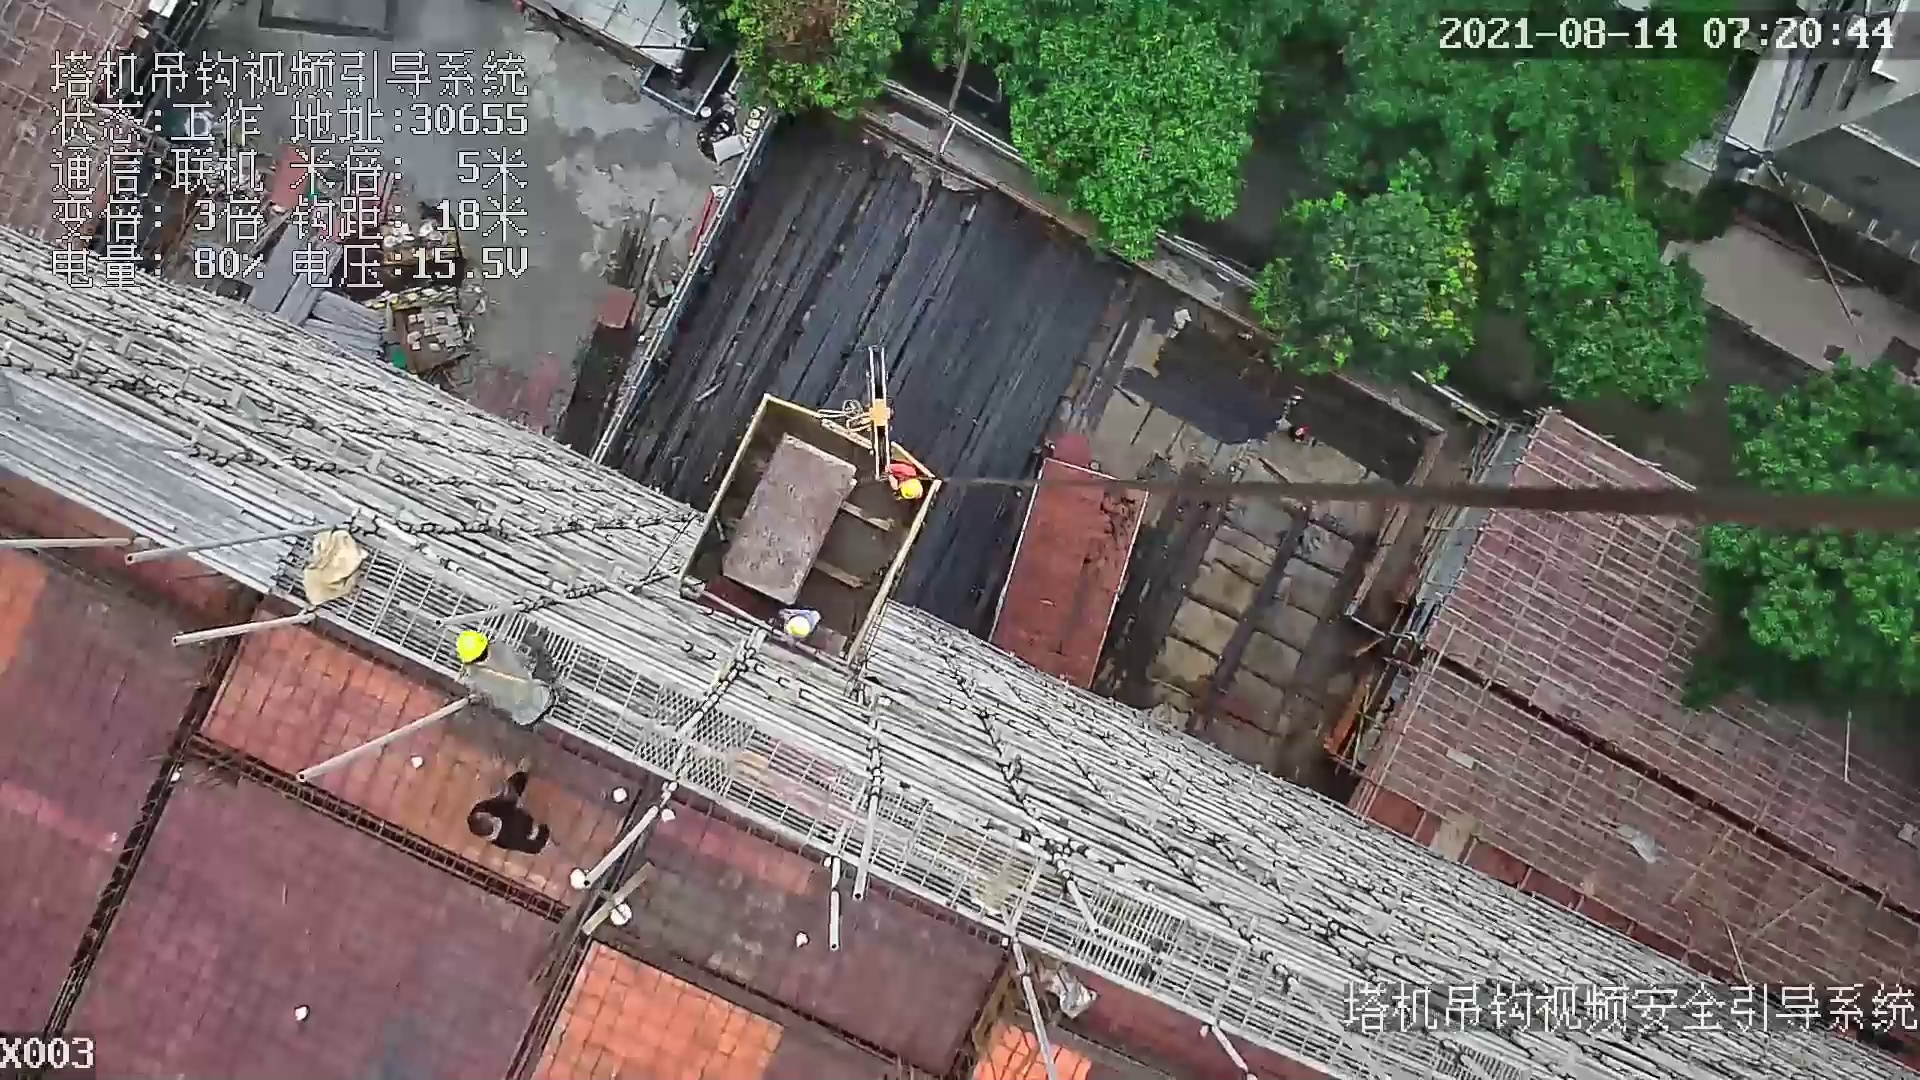helmet: (452, 628, 491, 665), (783, 615, 811, 642), (898, 479, 923, 499)
hook: (846, 342, 904, 477)
person: (440, 617, 562, 722), (449, 777, 568, 851), (882, 455, 928, 504), (776, 606, 831, 641)
